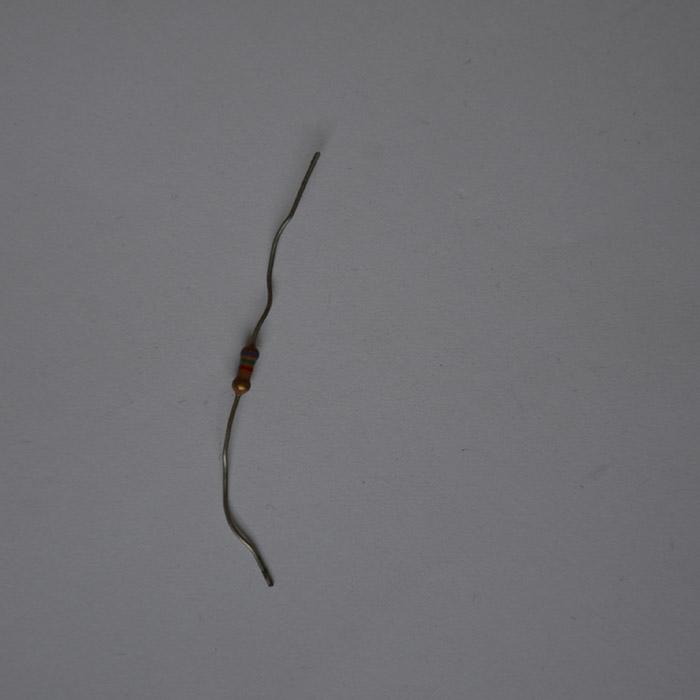resistor: (231, 345, 258, 396)
